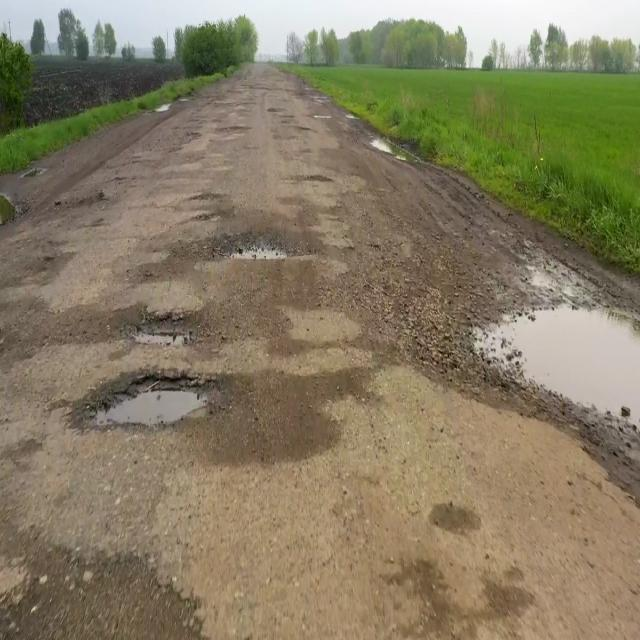road-pothole: (476, 306, 640, 435), (89, 369, 218, 426), (122, 314, 195, 349), (214, 226, 308, 250), (368, 137, 413, 162), (2, 193, 23, 227)
